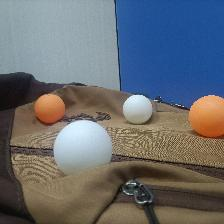WhiteBall: (54, 120, 110, 173), (122, 94, 152, 124)
YellowBall: (188, 94, 224, 137), (34, 94, 64, 123)
